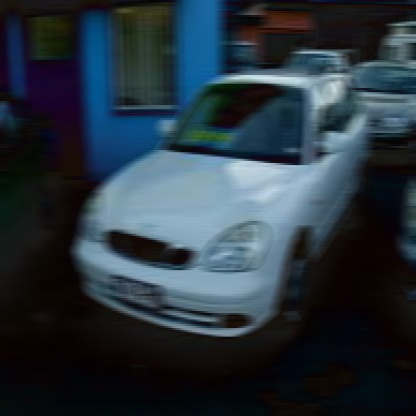Vehicle: (72, 67, 373, 346)
